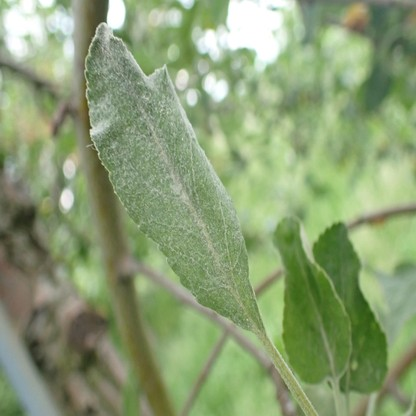powder: (84, 19, 266, 343)
